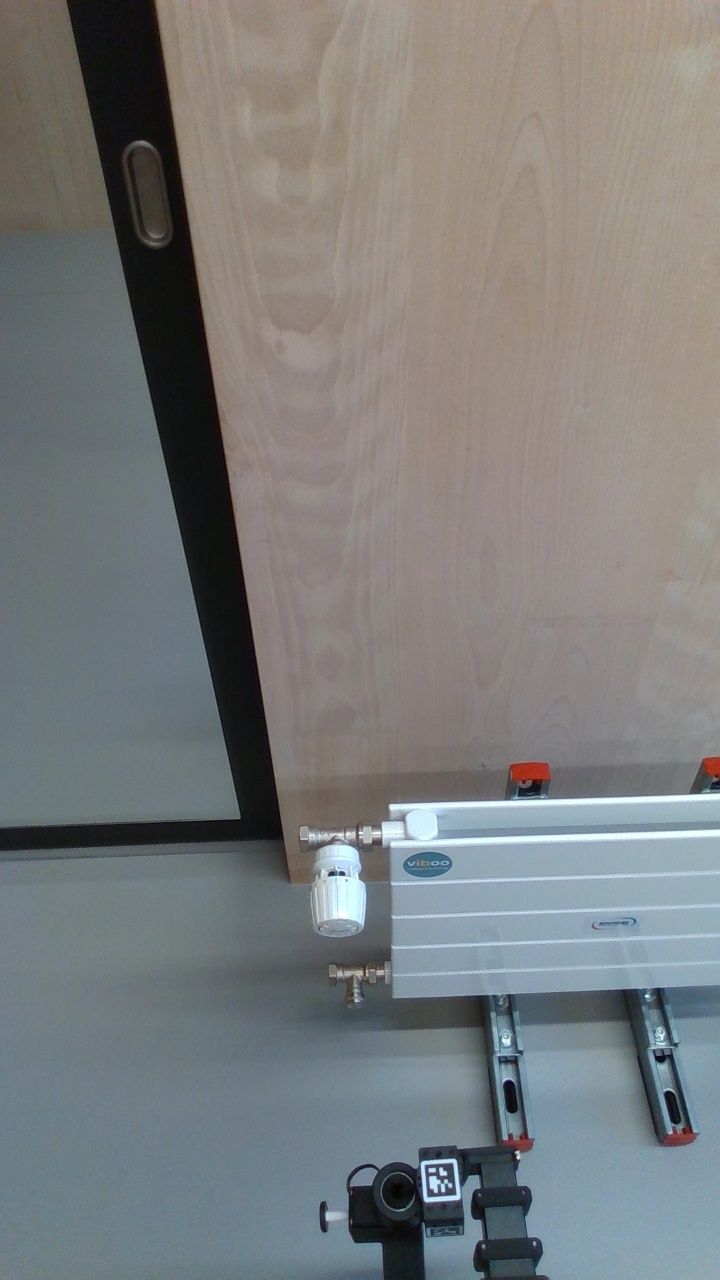Knob_Radiator: (301, 832, 372, 947)
Radiator: (378, 790, 720, 1006)
